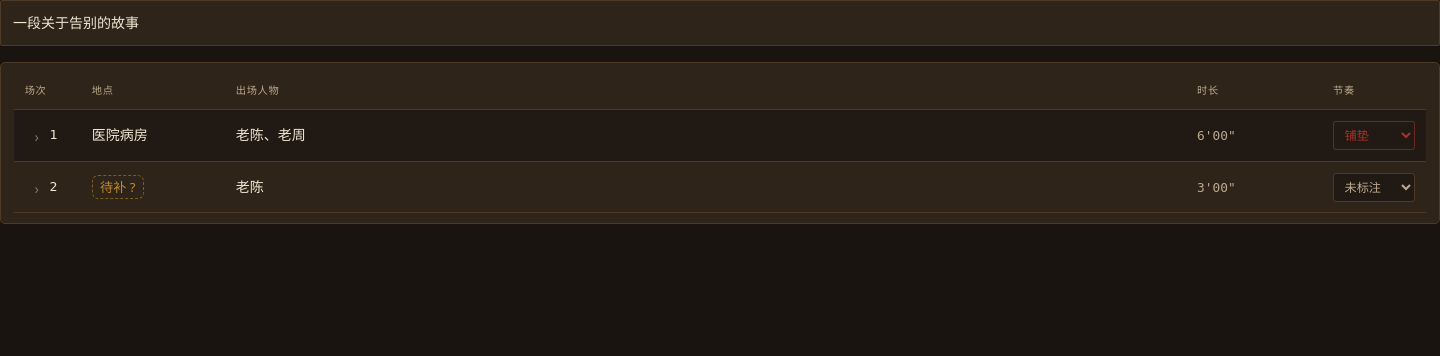
Scenario: ScheduleTable › 点击展开显示舞台说明、在场人物、AI 简介与手工备注
The image size is (1440, 356).
Expected: the text "（老周坐下）" is not shown
What coordinates should you click on to do the following:
click the button named "展开详情"
I would click on:
 (43, 135)
Its box is [25,123,61,147].
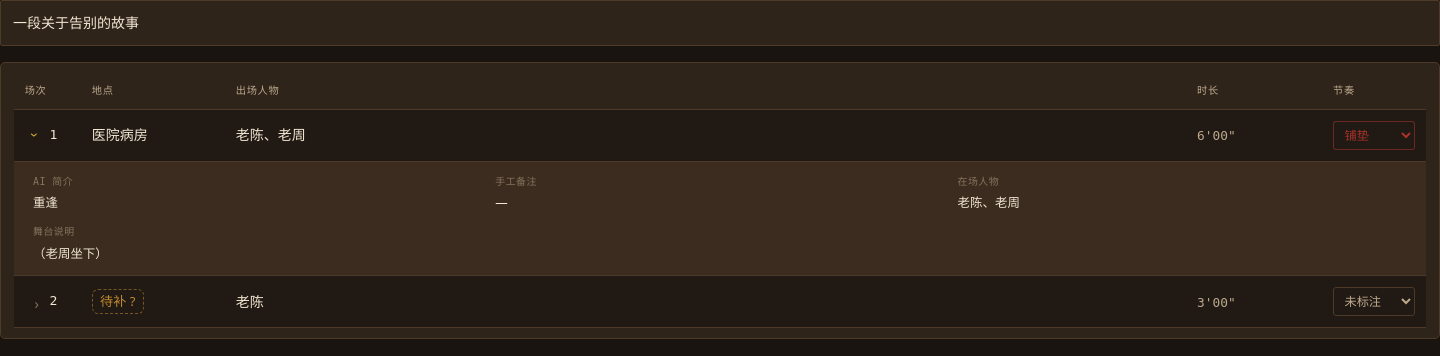
Expected: the text "（老周坐下）" is shown, [33,245,108,262]
Expected: the text "重逢" is shown, [33,194,58,211]
Expected: the text "手工备注" is shown, [495,176,537,186]
